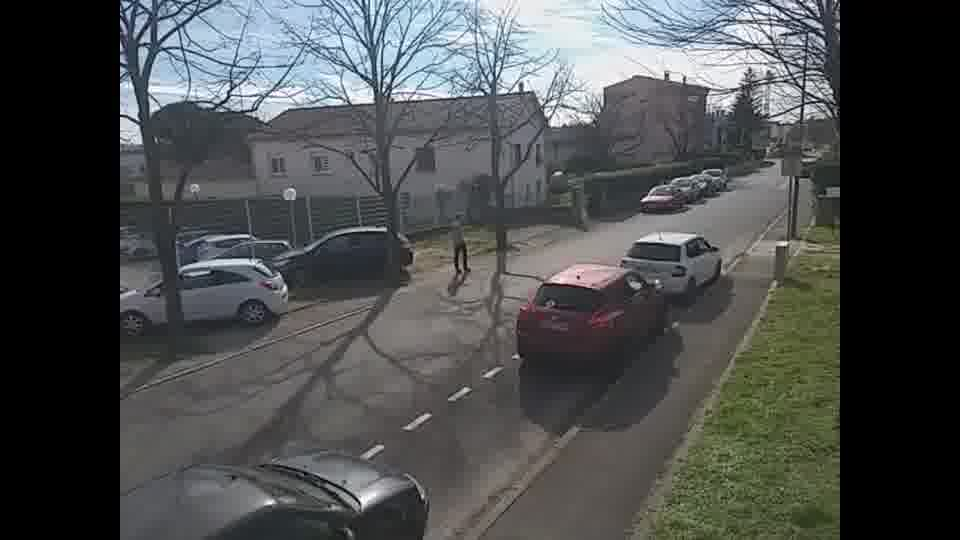jugador: (443, 204, 474, 281)
